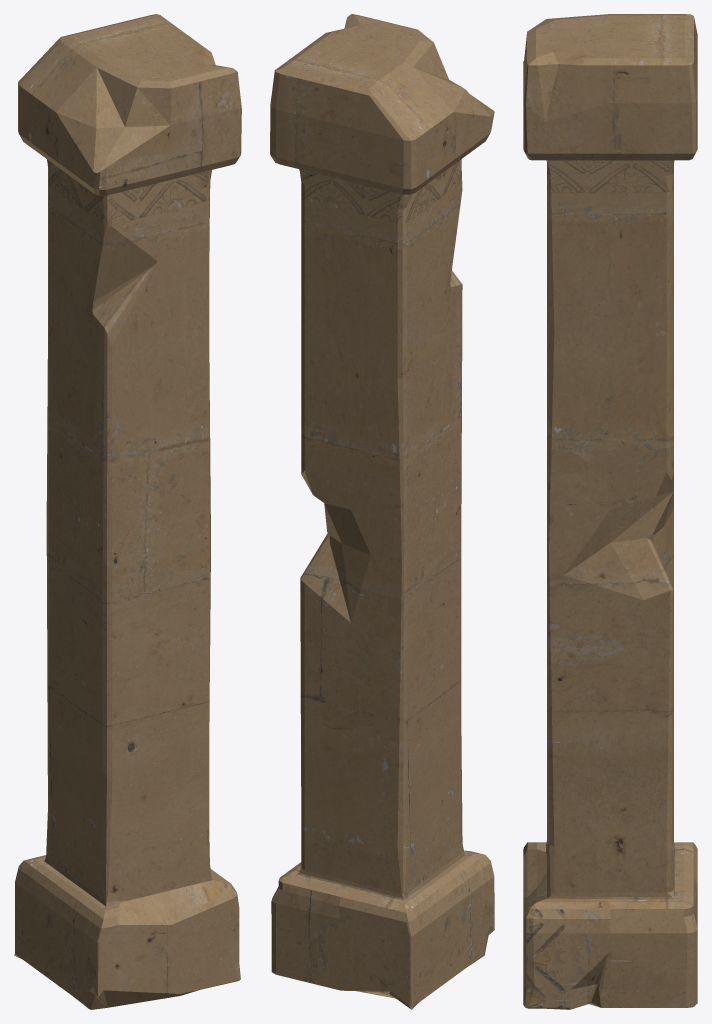
Rendered from SM_Fence_02.fbx.
3 views of the same model, side by side, from view 1: azimuth 30°, elevation 25°; view 2: azimuth 150°, elevation 25°; view 3: azimuth 270°, elevation 25° (orthographic). The views are drawn at different scales.
Parts seen in each view (by area): view 1: SM_Fence_02; view 2: SM_Fence_02; view 3: SM_Fence_02.
Part boxes in pixels (bbox=[...]): SM_Fence_02: bbox=[14, 14, 241, 1009]; SM_Fence_02: bbox=[270, 14, 494, 1009]; SM_Fence_02: bbox=[523, 14, 697, 1009].
Bounding box in the file's own units: 20.09 × 120 × 20.
